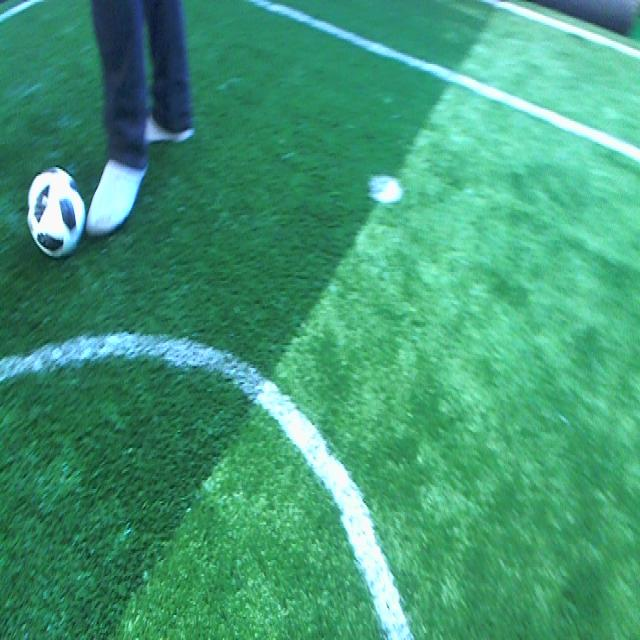ball: (27, 167, 86, 258)
